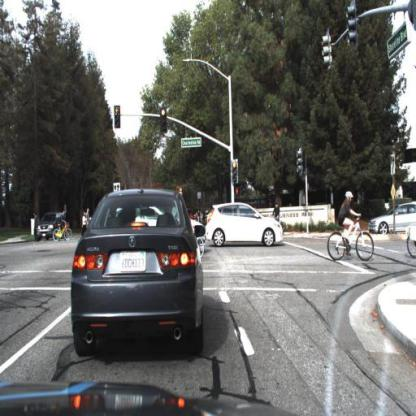biker: (327, 191, 377, 264), (173, 183, 208, 261), (54, 206, 72, 244), (270, 201, 281, 221)
car: (70, 186, 207, 359), (207, 202, 286, 251), (191, 203, 211, 262), (37, 209, 62, 241)
pedestrian: (31, 210, 43, 249), (33, 213, 43, 244), (82, 208, 93, 236), (60, 208, 69, 242), (267, 196, 276, 223)
trafficLight-Red: (231, 158, 240, 185), (159, 105, 167, 135)
trafficLight-RedLeft: (114, 103, 122, 130)
